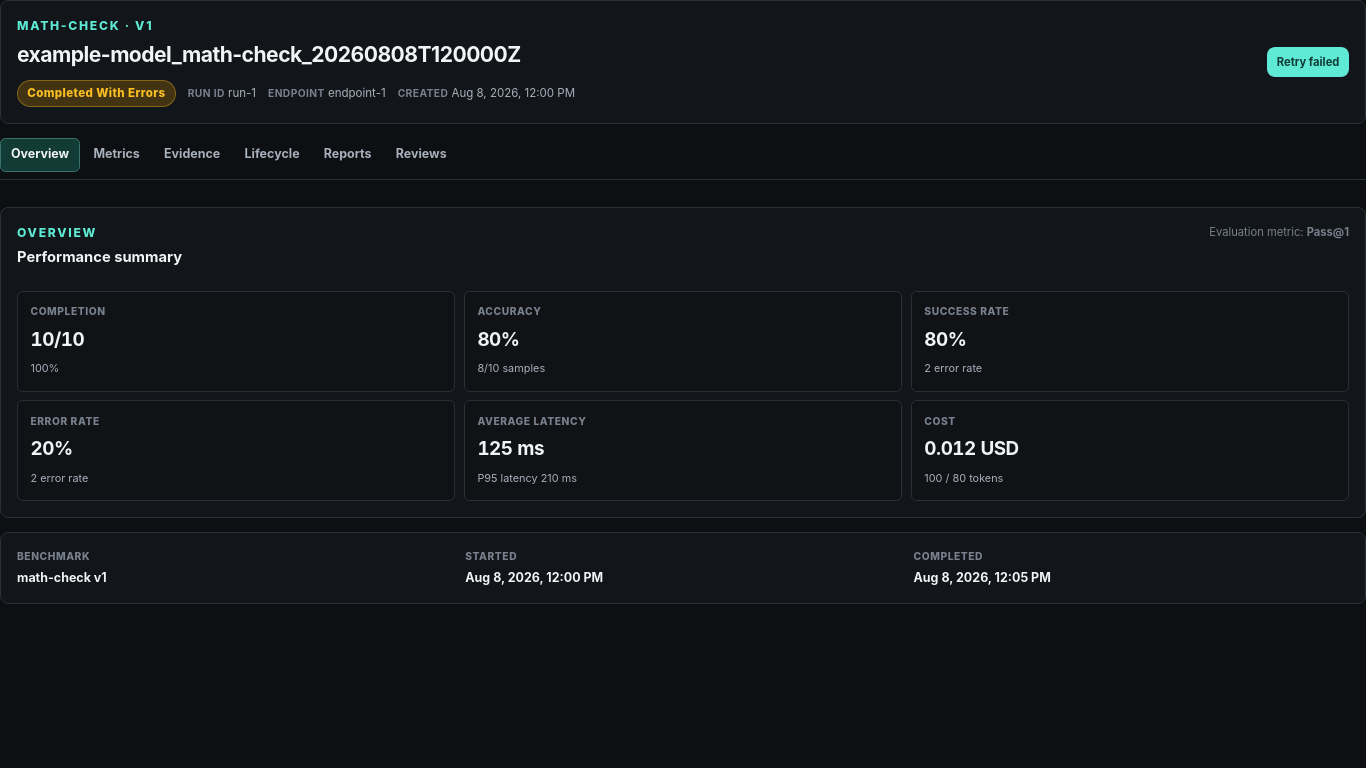
run detail workspace › labels the perplexity token count instead of presenting it as samples
Click the tab "Metrics": point(117, 155) [82,138,151,172]
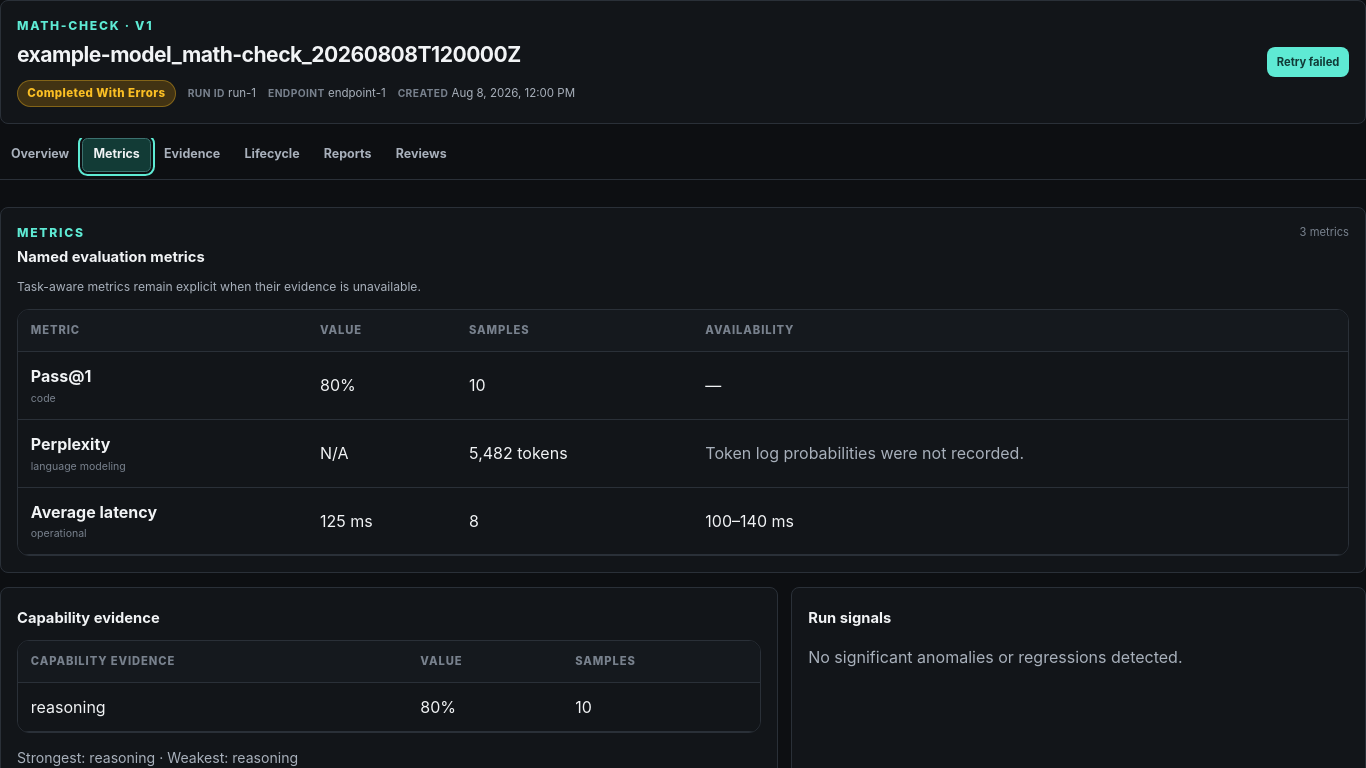
expect the cell "5,482 tokens" is shown: met, box [456,419,693,487]
